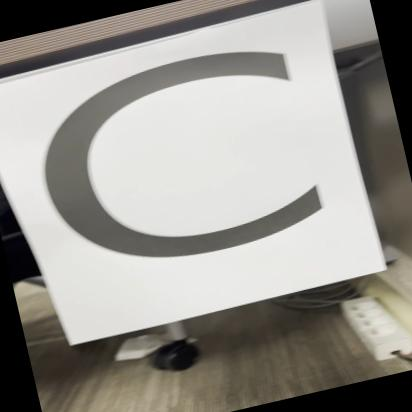seat: (0, 0, 395, 356)
